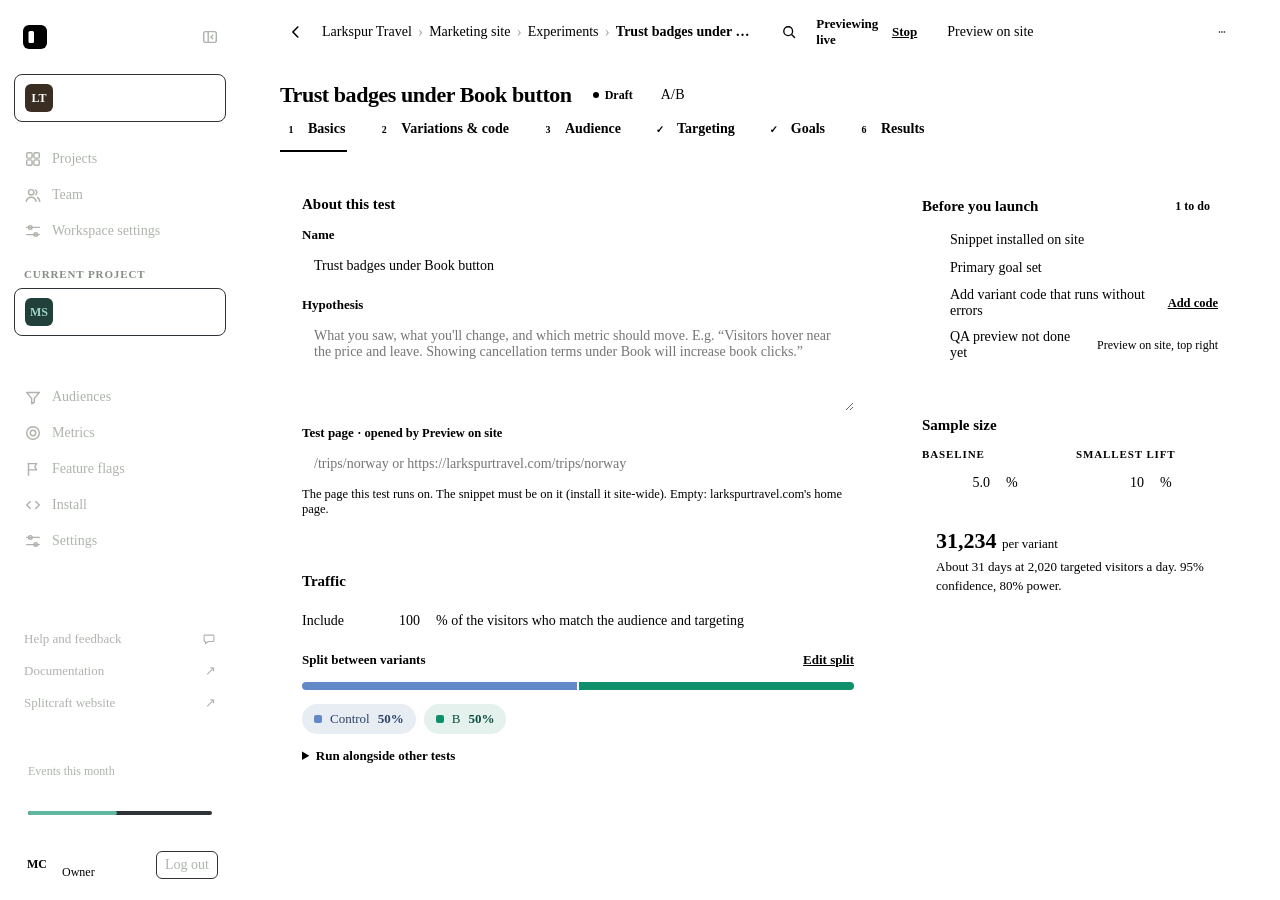
it: test page › refuses other sites and warns about pages outside WHERE
The image size is (1280, 900).
Expected: the navigation bar named "Experiment steps" is shown, [280,108,925,152]
In the field labelled "Test page · opened by Preview on site": [578, 464] box [302,447,854,481], type "https://other.example/x"
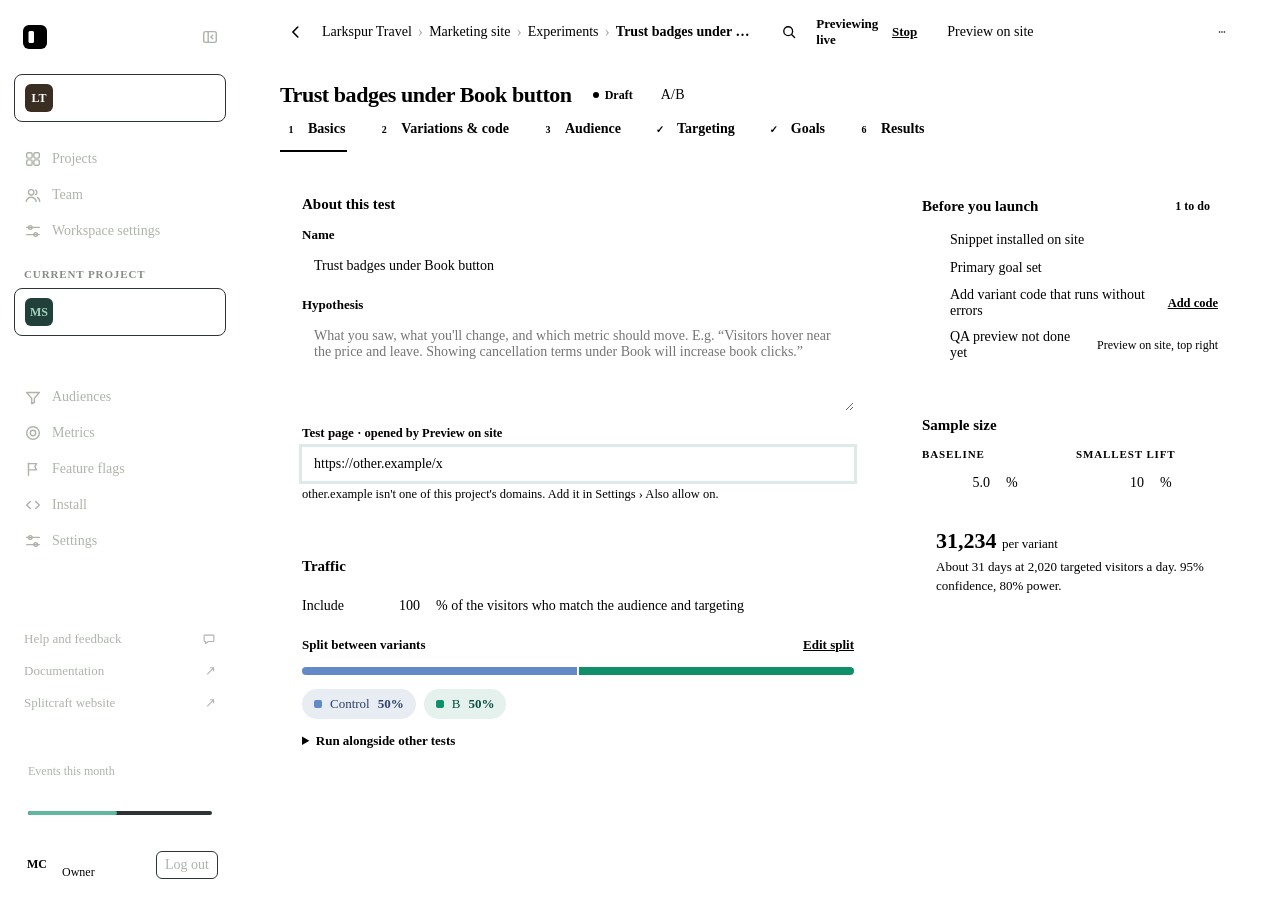
Expected: the text "other.example isn't one of this project's domains" is shown, [302,487,719,501]
Replace the text in the field labelled "Test page · opened by Preview on site" with "/checkout": [578, 464] box [302,447,854,481]
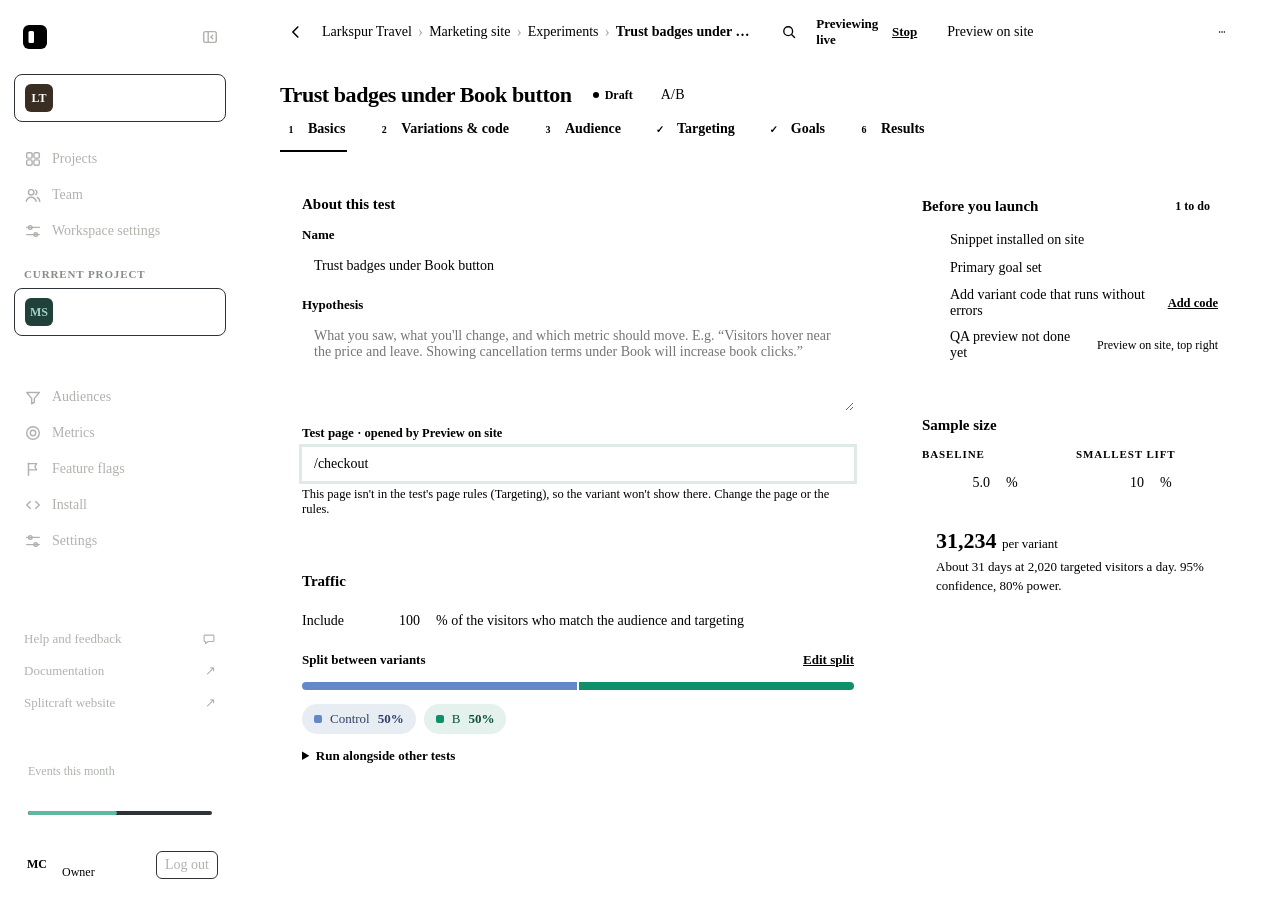
Expected: the text "isn't in the test's page rules" is shown, [302,487,829,516]
